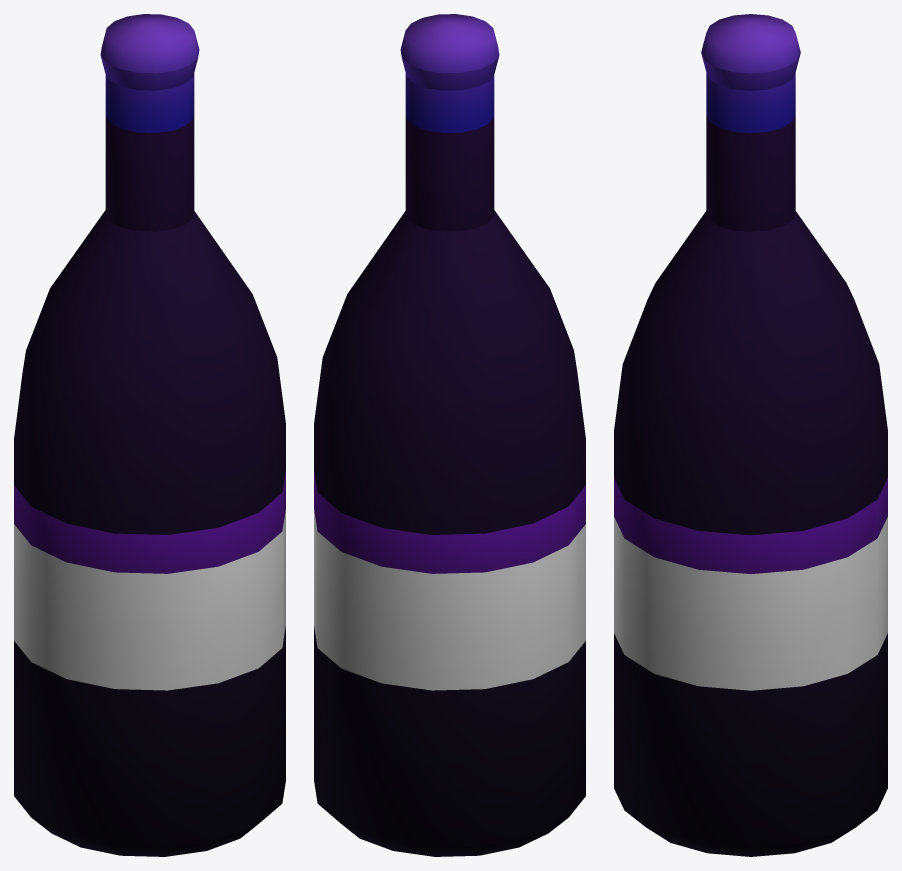
File: WineBottle2.fbx
3 renders of one model, left to right at view 1: azimuth 30°, elevation 25°; view 2: azimuth 150°, elevation 25°; view 3: azimuth 270°, elevation 25°, orthographic.
Visible parts, largest first — view 1: Wine Bottle.001; view 2: Wine Bottle.001; view 3: Wine Bottle.001.
Part boxes in pixels (box(x1,y1,x2,y2)): Wine Bottle.001: box(14, 14, 285, 856); Wine Bottle.001: box(314, 14, 585, 856); Wine Bottle.001: box(614, 14, 887, 856).
Bounding box in the file's own units: 20.58 × 65.07 × 20.58.
Materials: 1 (1 with a texture image).
